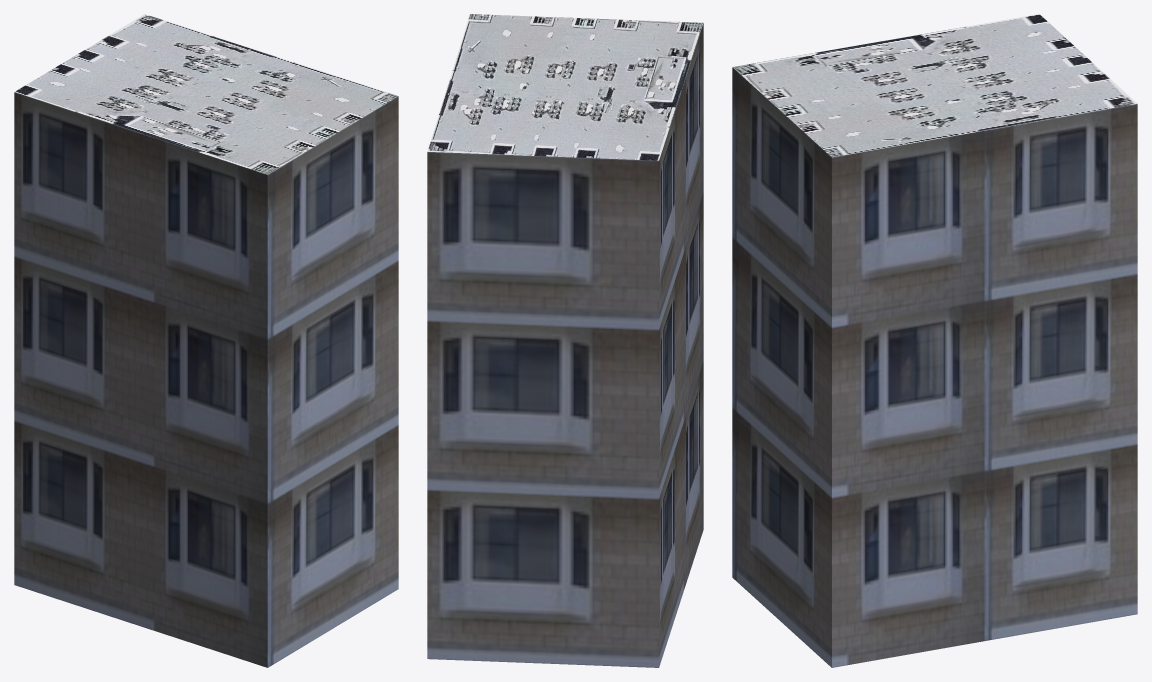
The model's file is ResTex__2824.fbx.
3 renders of one model, left to right at view 1: azimuth 30°, elevation 25°; view 2: azimuth 150°, elevation 25°; view 3: azimuth 270°, elevation 25°, orthographic. The views are drawn at different scales.
Parts seen in each view (by area): view 1: CityEngineMaterial_3_m, CityEngineMaterial_4_m; view 2: CityEngineMaterial_3_m, CityEngineMaterial_4_m; view 3: CityEngineMaterial_3_m, CityEngineMaterial_4_m.
Part boxes in pixels (x1,y1,x2,y2): CityEngineMaterial_3_m: (14,92,398,667); CityEngineMaterial_4_m: (15,14,398,174); CityEngineMaterial_3_m: (427,23,703,667); CityEngineMaterial_4_m: (427,14,703,160); CityEngineMaterial_3_m: (732,67,1137,667); CityEngineMaterial_4_m: (732,14,1137,157).
Bounding box in the file's own units: 5.42 × 9 × 6.48.
Materials: 2 (2 with a texture image).
